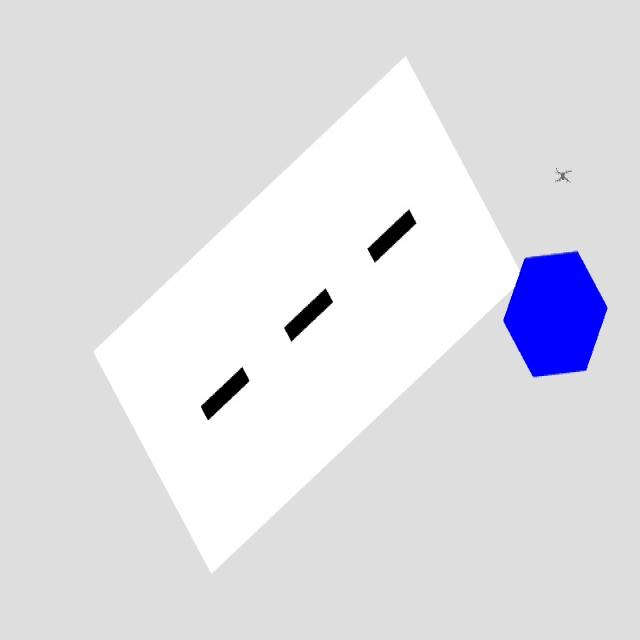blue_hexagon: (504, 251, 608, 380)
